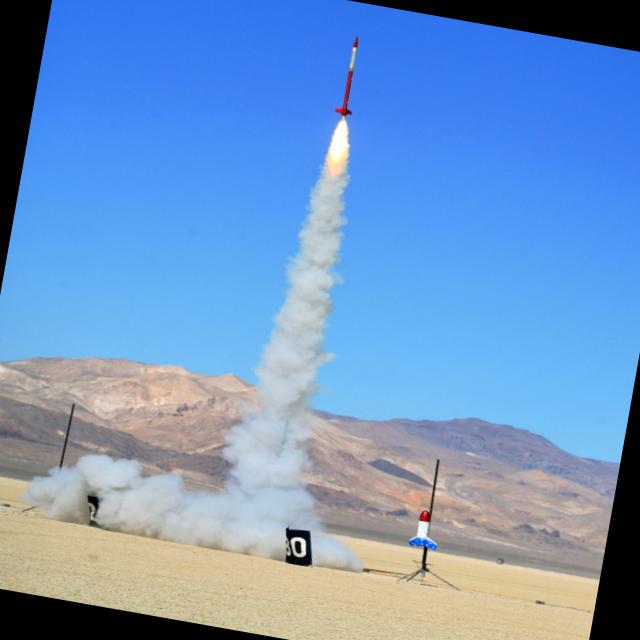rocket: (295, 23, 377, 266)
